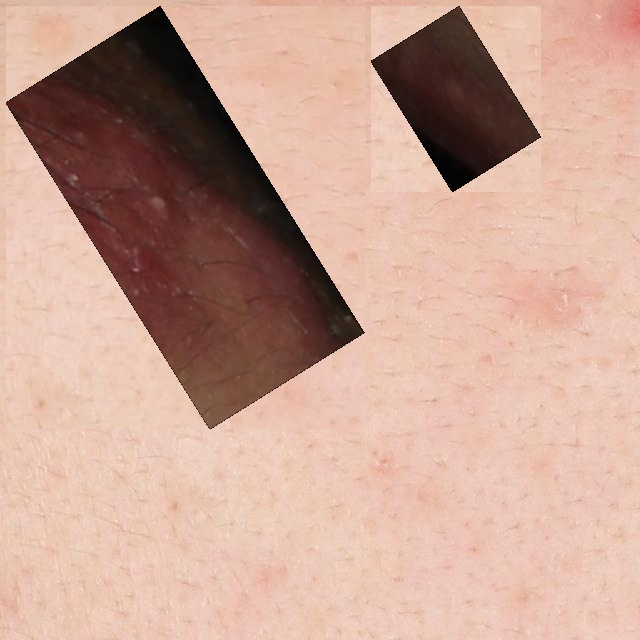nodule: (17, 17, 353, 418), (382, 17, 530, 181)
